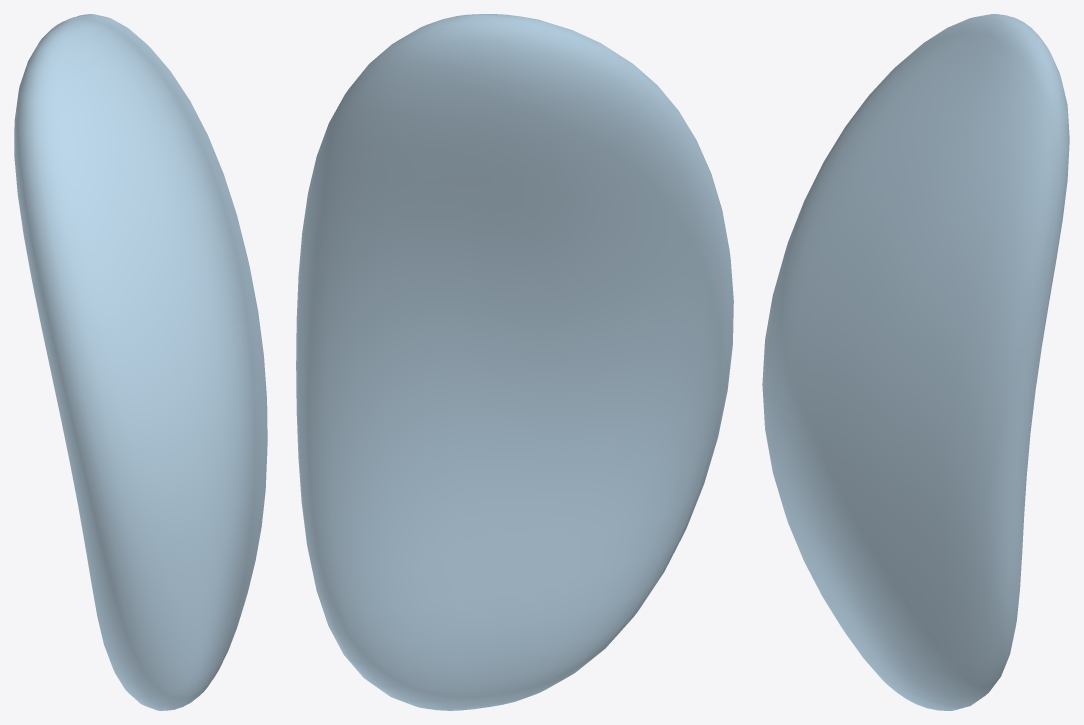
The model's file is bourse-bicipito-radiale.glb.
3 renders of one model, left to right at view 1: azimuth 30°, elevation 25°; view 2: azimuth 150°, elevation 25°; view 3: azimuth 270°, elevation 25°, orthographic. The views are drawn at different scales.
Visible parts, largest first — view 1: bourse-bicipito-radiale; view 2: bourse-bicipito-radiale; view 3: bourse-bicipito-radiale.
Boxes of the visible parts, box(x1,y1,x2,y2) form: bourse-bicipito-radiale: box(14, 14, 267, 710); bourse-bicipito-radiale: box(296, 14, 733, 710); bourse-bicipito-radiale: box(762, 14, 1069, 710).
Size of the model in its own units: 0.00691 by 0.0153 by 0.00657.
